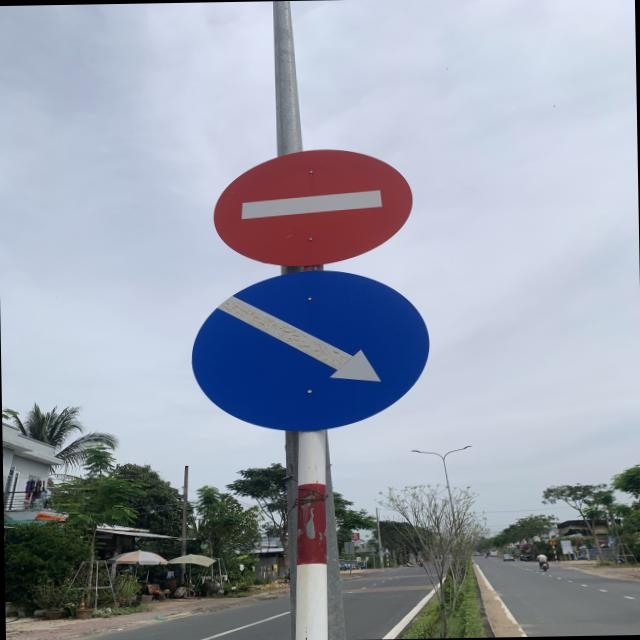Cam_Di_Nguoc_Chieu: (212, 148, 414, 266)
Chi_Huong_Di_Phai: (189, 267, 431, 431)
